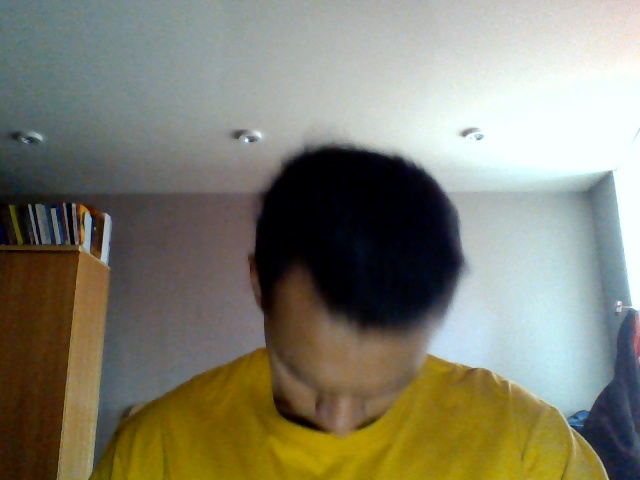no_mask: (261, 349, 399, 437)
